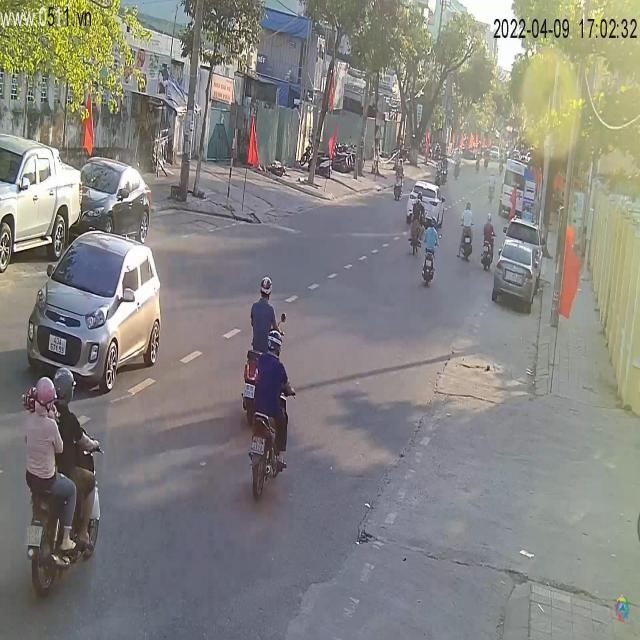car: (25, 233, 164, 394), (1, 132, 84, 277), (79, 159, 155, 243), (491, 236, 545, 316)
motorcycle: (19, 427, 108, 601), (248, 388, 292, 510), (421, 233, 439, 287), (461, 218, 476, 262), (481, 249, 492, 272)
